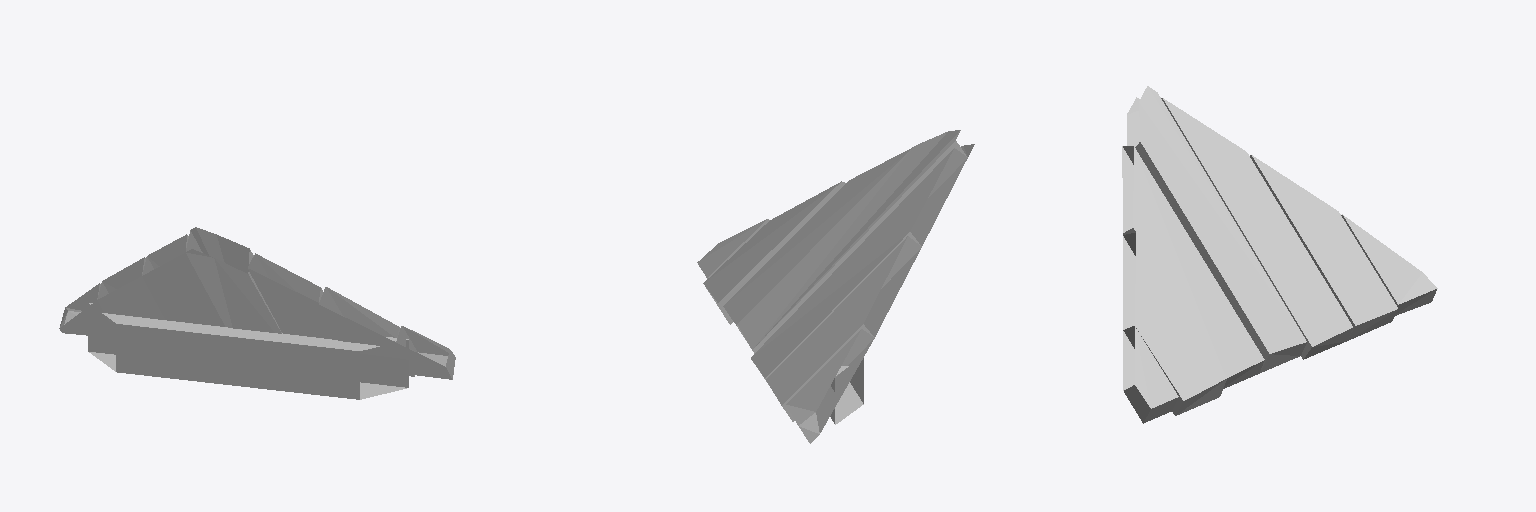
File: Roof_Wooden_2x1_Corner.obj
3 renders of one model, left to right at view 1: azimuth 30°, elevation 25°; view 2: azimuth 150°, elevation 25°; view 3: azimuth 270°, elevation 25°, orthographic.
Visible parts, largest first — view 1: Roof_Wooden_2x1_Corner; view 2: Roof_Wooden_2x1_Corner; view 3: Roof_Wooden_2x1_Corner.
Boxes of the visible parts, box(x1,y1,x2,y2) form: Roof_Wooden_2x1_Corner: box(59, 227, 455, 399); Roof_Wooden_2x1_Corner: box(697, 130, 974, 443); Roof_Wooden_2x1_Corner: box(1122, 86, 1437, 423).
Bounding box in the file's own units: 1.54 × 1.18 × 1.56.